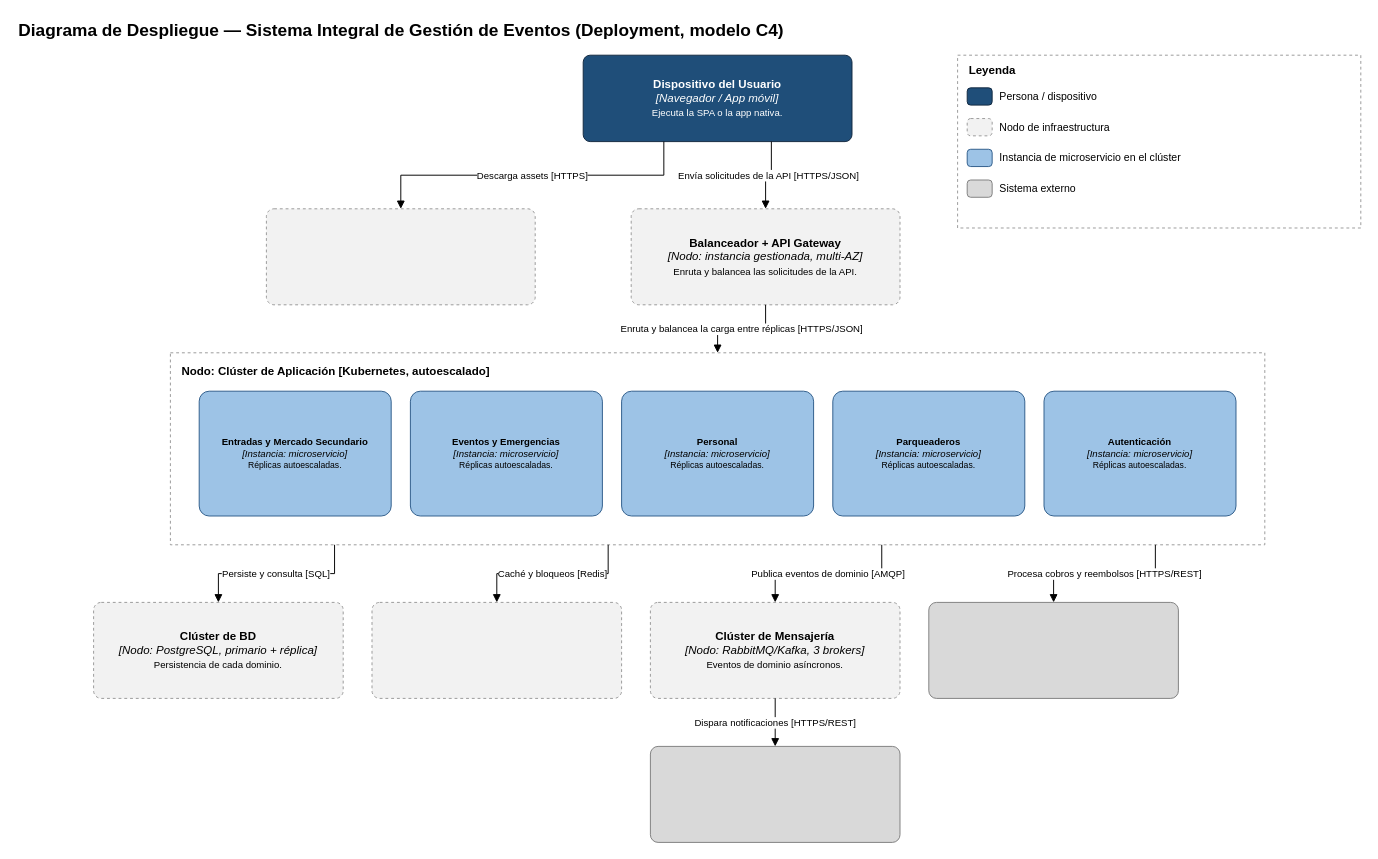
Some shapes in this 1378 by 859 pixel diagram are drawn without their labels. Here are the shapes that lost their labels. From the top down, the centre of each, then its label:
At (x=400, y=256): "CDN / Edge [Nodo: p.ej. CloudFront] Sirve los assets estáticos de la App Web.".
At (x=496, y=649): "Clúster Redis [Nodo: modo Sentinel] Caché y bloqueos de concurrencia.".
At (x=1053, y=649): "Pasarela de Pagos [Sistema externo] Procesa cobros y reembolsos.".
At (x=774, y=793): "Proveedor de Notificaciones [Sistema externo] Push, correo y SMS.".
